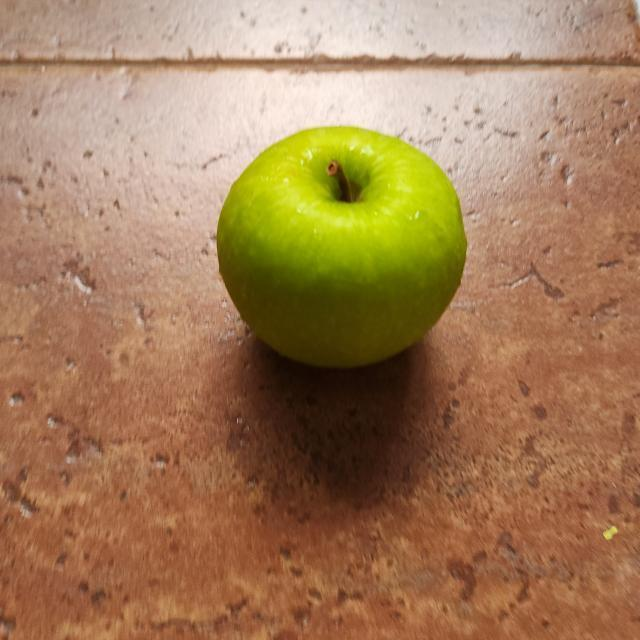apple: (210, 120, 469, 378)
